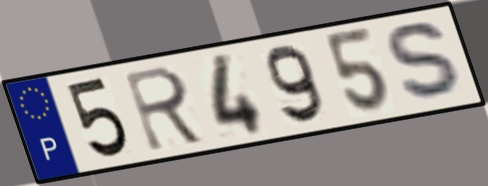4: (207, 50, 267, 139)
5: (320, 24, 393, 118), (63, 74, 129, 160)
9: (265, 42, 326, 125)
R: (121, 63, 211, 155)
S: (384, 20, 470, 104)
